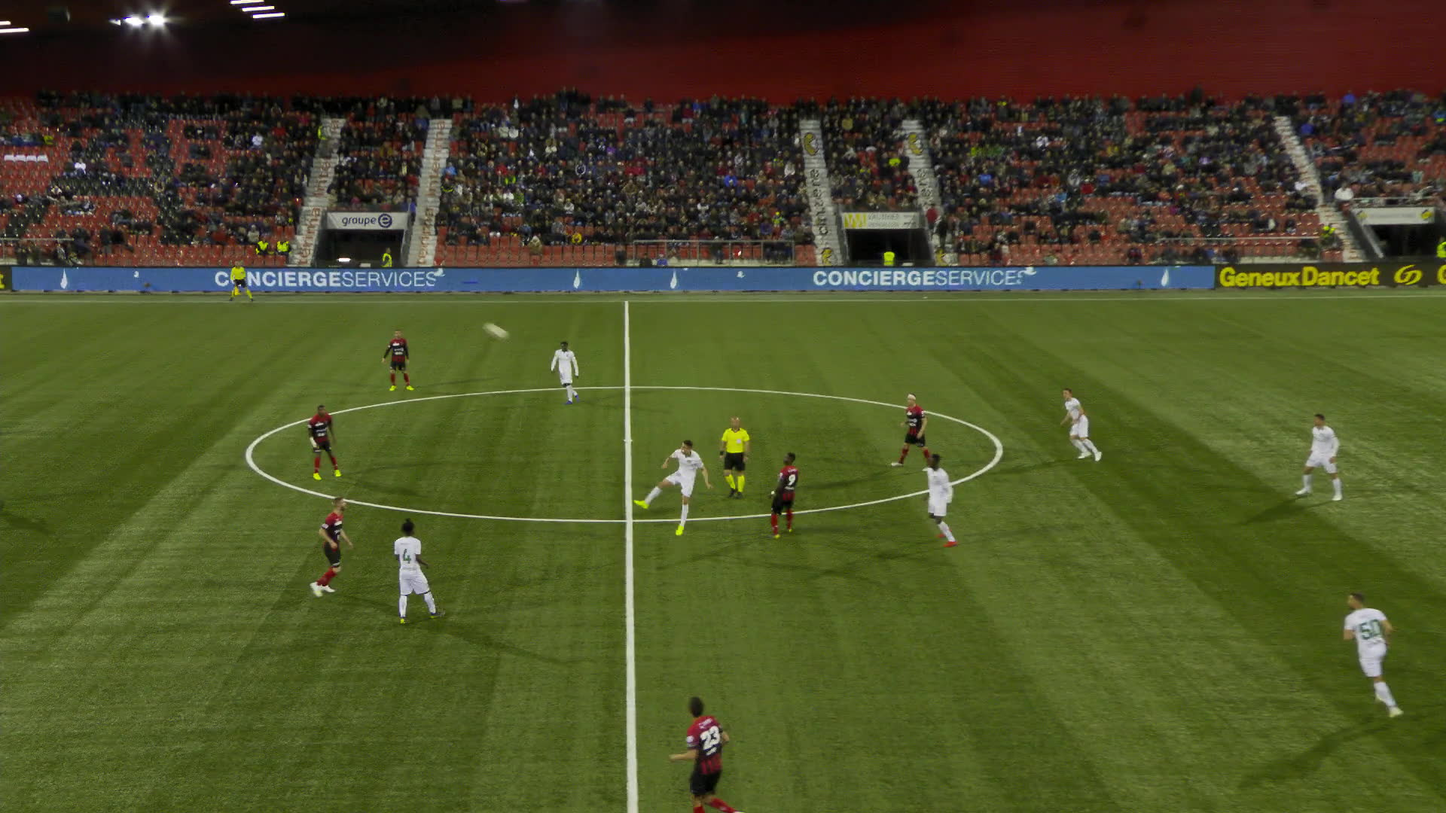ball: (501, 331, 513, 343)
player: (687, 692, 755, 812), (646, 442, 717, 534), (1347, 595, 1399, 719), (401, 517, 447, 626), (321, 495, 366, 598), (1301, 414, 1348, 502), (926, 453, 964, 549), (1065, 388, 1108, 463), (773, 452, 807, 539), (901, 394, 937, 471), (315, 406, 346, 482), (389, 331, 421, 392), (554, 342, 583, 405)
referee: (727, 418, 755, 500), (236, 259, 260, 303)
